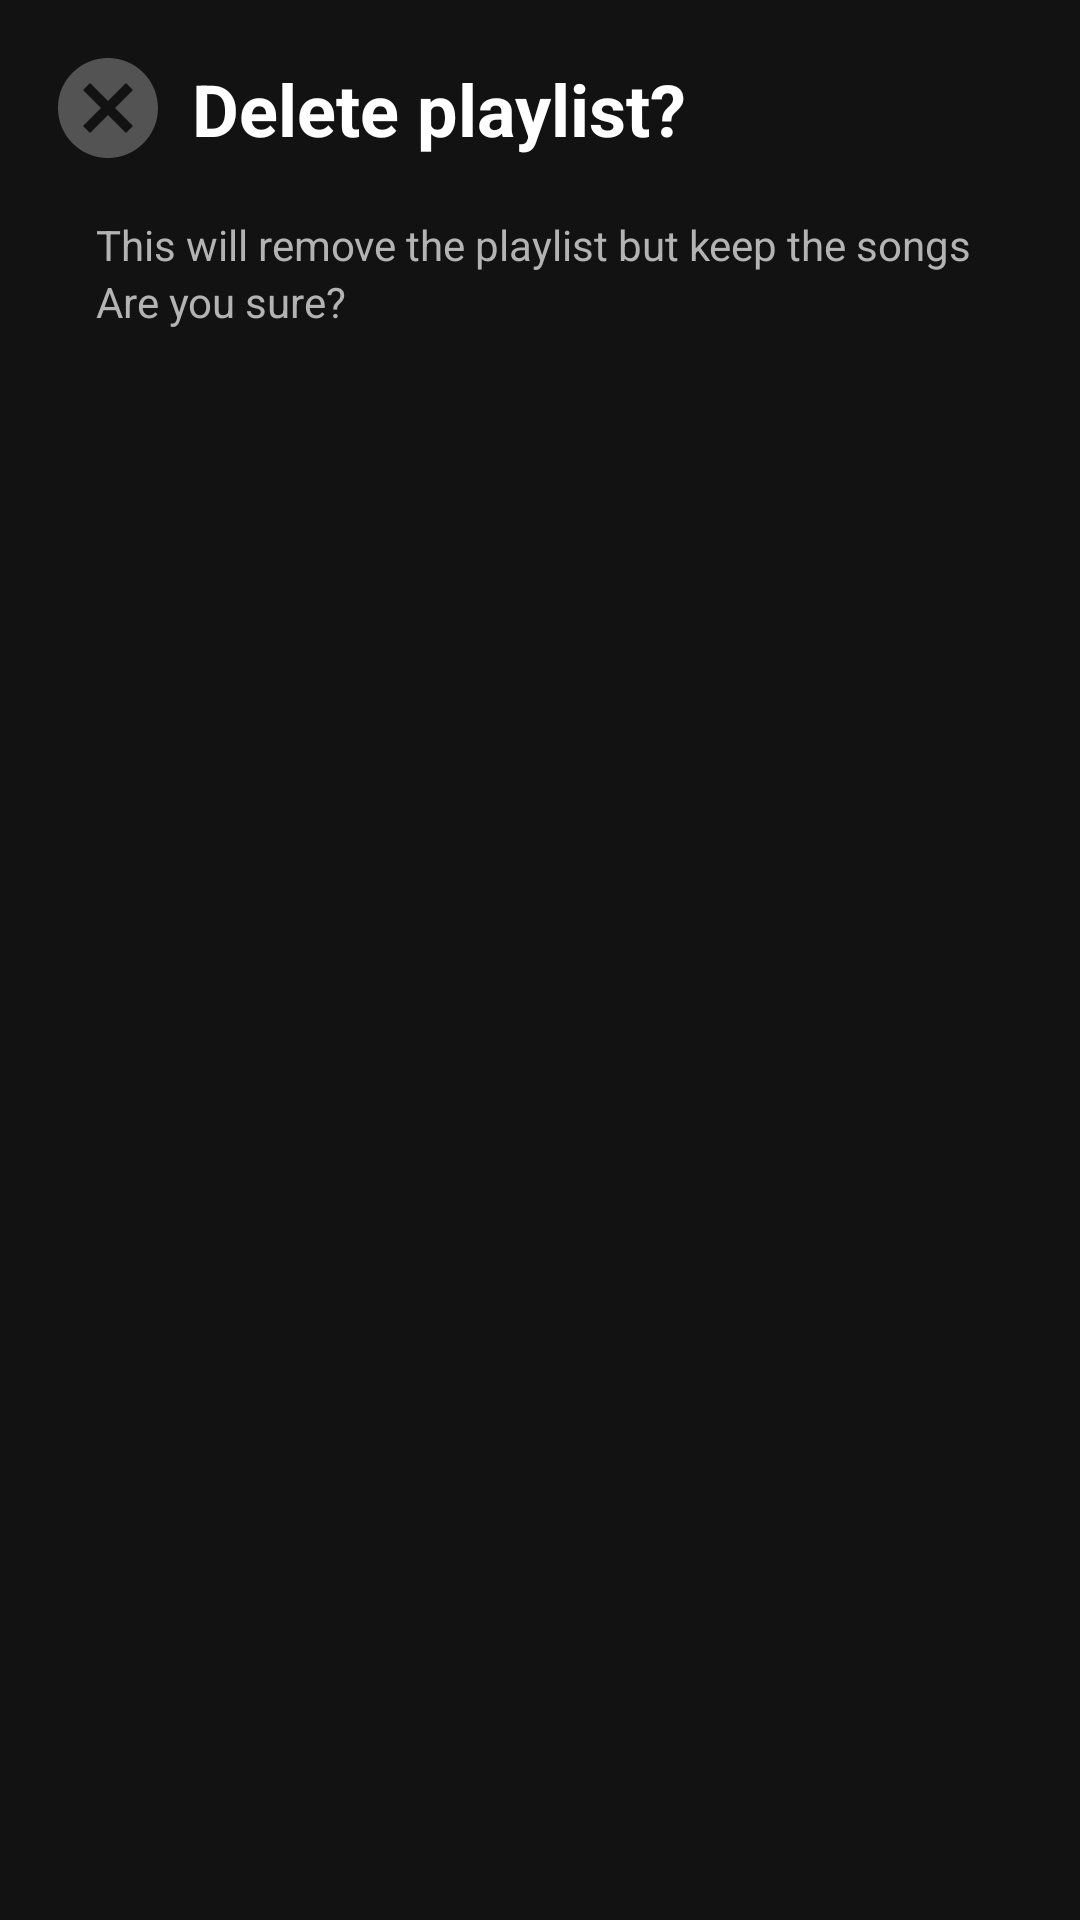

Named icons in this screenshot (1080 × 1920) and their centers, [x,y]:
cancel: [108,108]
